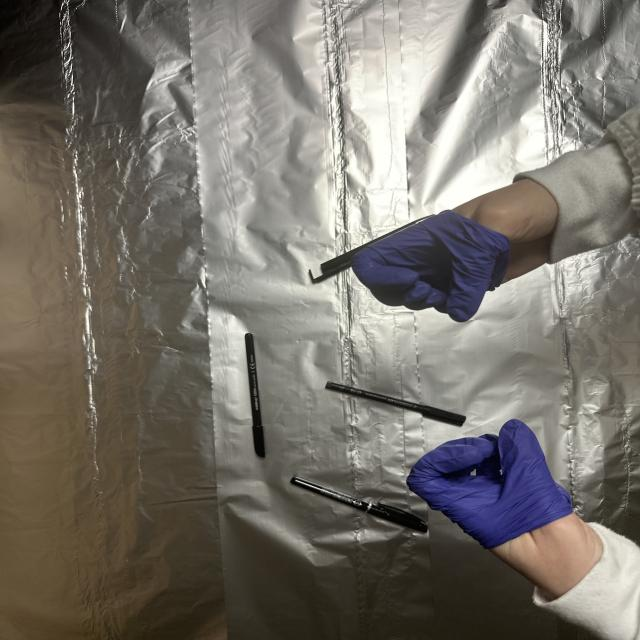glove_partial: (406, 413, 608, 605), (351, 181, 578, 325)
